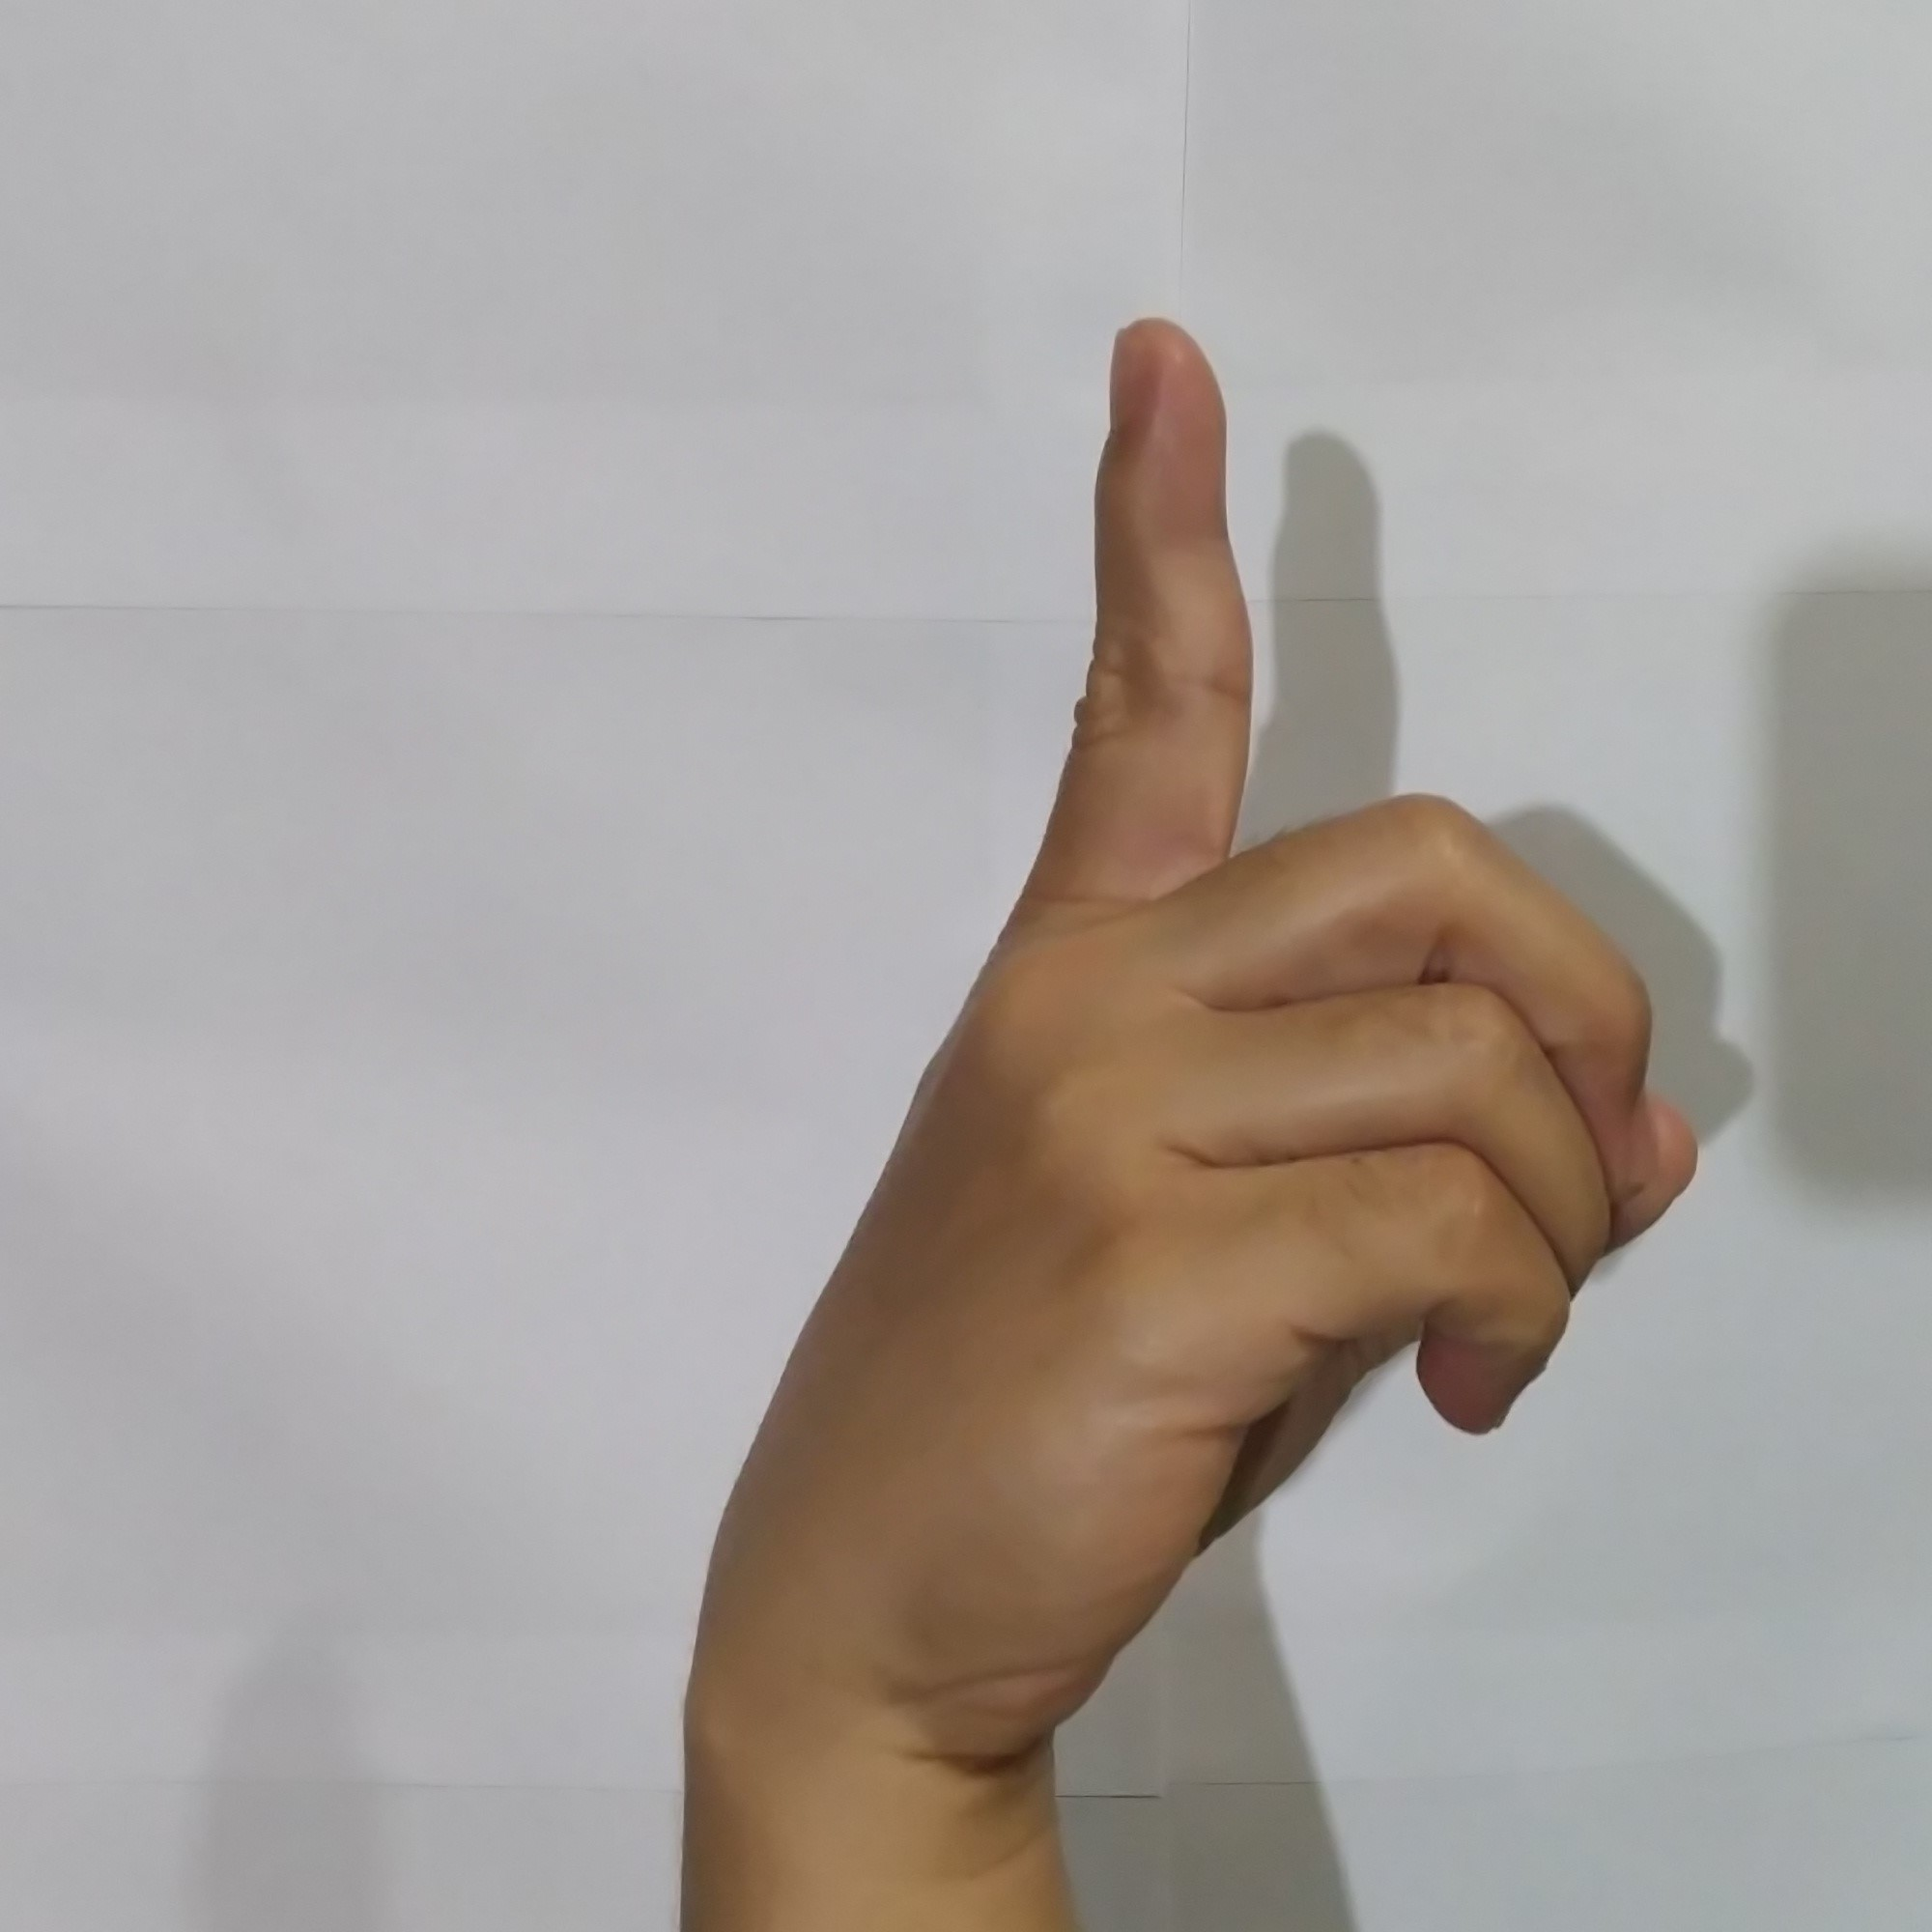D: (722, 292, 1720, 1759)
